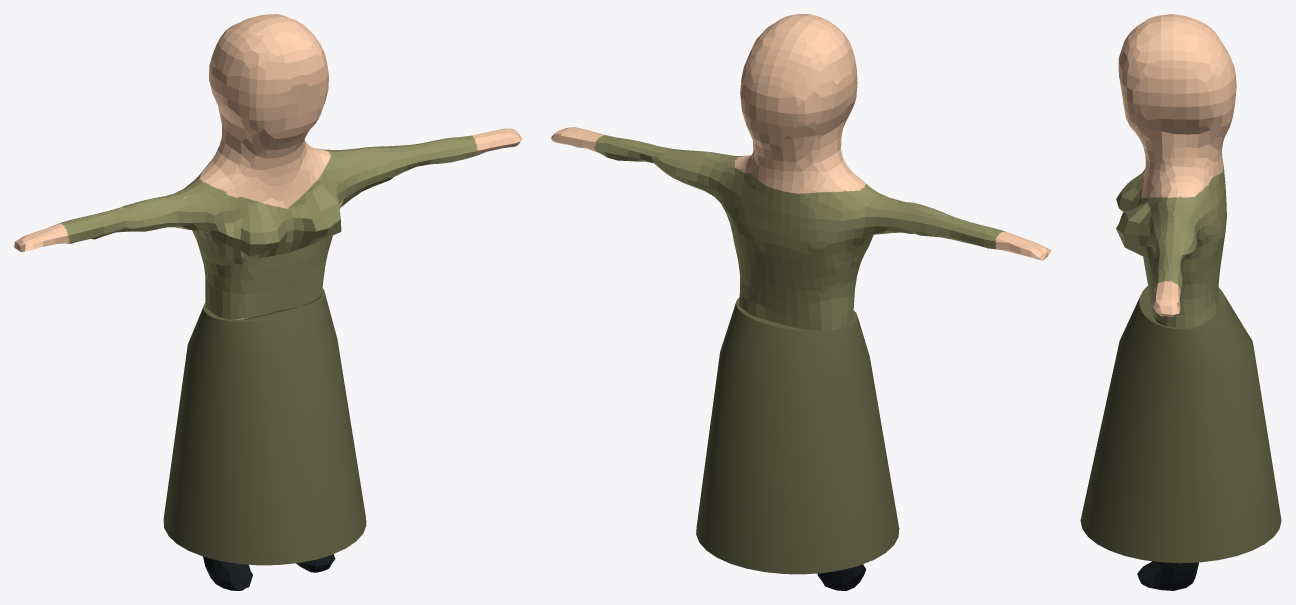
File: woman_0.fbx
3 renders of one model, left to right at view 1: azimuth 30°, elevation 25°; view 2: azimuth 150°, elevation 25°; view 3: azimuth 270°, elevation 25°, orthographic.
Parts seen in each view (by area): view 1: Woman_; view 2: Woman_; view 3: Woman_.
Boxes of the visible parts, x1=… form: Woman_: x1=14, y1=14, x2=522, y2=590; Woman_: x1=551, y1=14, x2=1051, y2=590; Woman_: x1=1080, y1=14, x2=1281, y2=590.
Size of the model in its own units: 424 by 451 by 150.
Materials: 1 (1 with a texture image).
